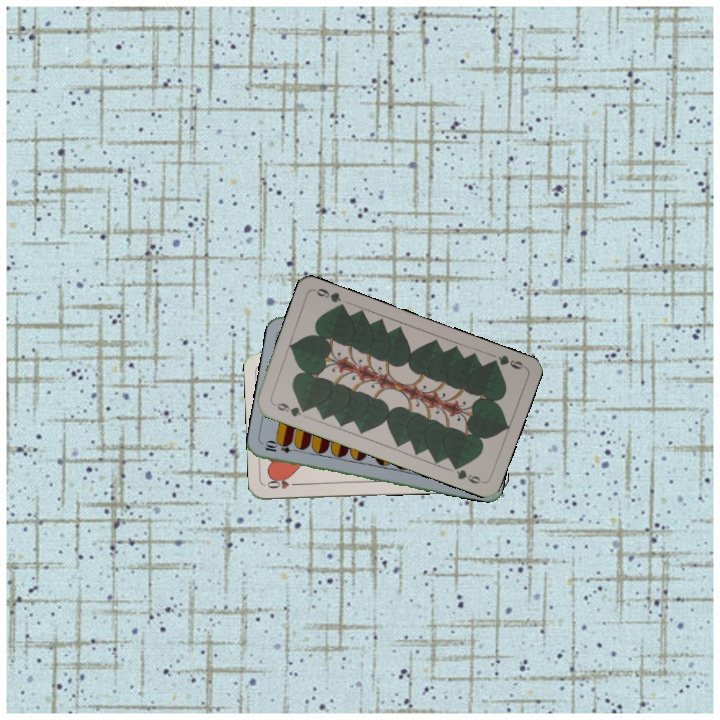E10: (261, 439, 302, 456)
G9: (485, 351, 527, 372), (269, 399, 309, 419)
HO: (263, 475, 303, 492)
